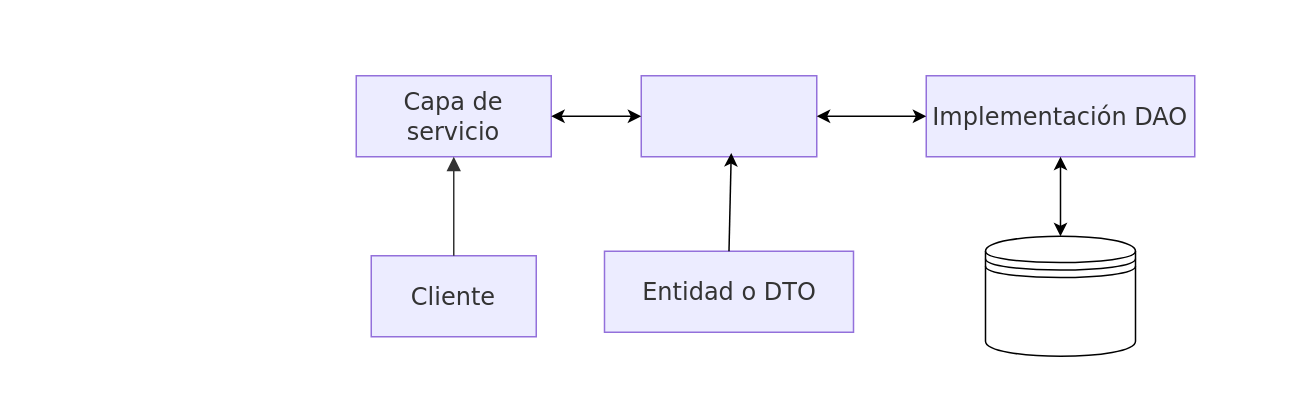
The diagram is 1296 pixels wide and 396 high, and some of its shapes have lost their labels. The centre of each missing label's shape, as x and y in pixels:
Base de datos: the point at 1060,295
Interfaz DAO: the point at 728,115
